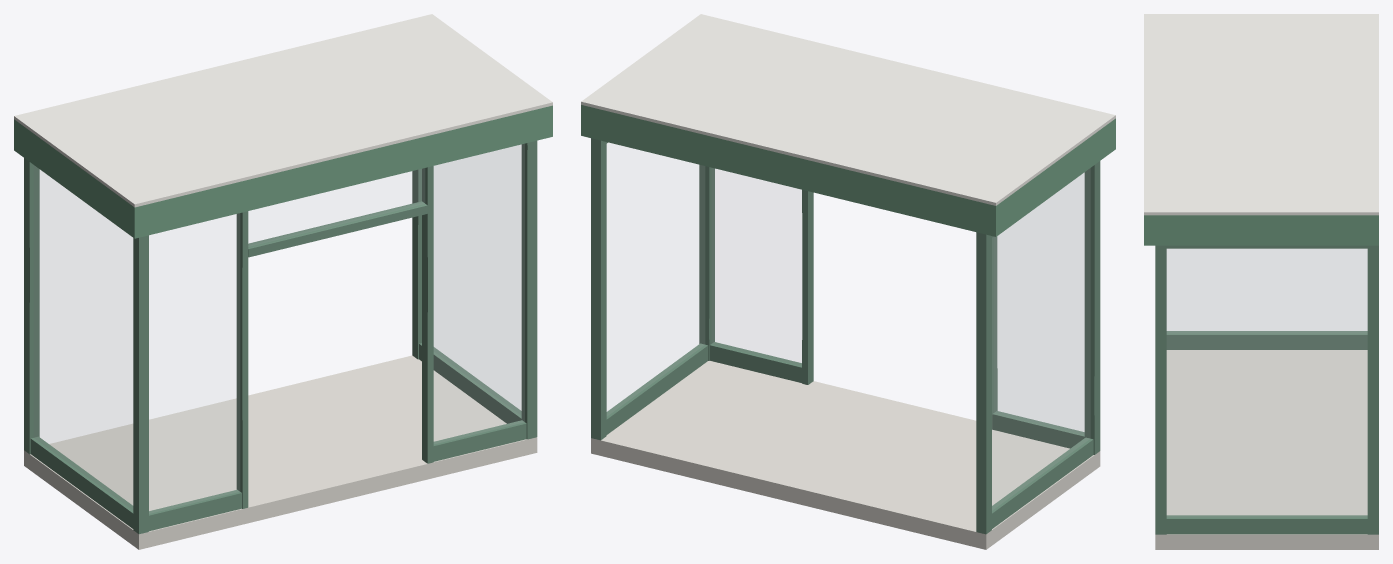
File: vestibule.glb
3 renders of one model, left to right at view 1: azimuth 30°, elevation 25°; view 2: azimuth 150°, elevation 25°; view 3: azimuth 270°, elevation 25°, orthographic. The views are drawn at different scales.
Visible parts, largest first — view 1: vestibule_glass, vestibule_trim, vestibule_floor, vestibule_frame2, vestibule_coping; view 2: vestibule_glass, vestibule_trim, vestibule_floor, vestibule_frame2, vestibule_coping; view 3: vestibule_glass, vestibule_trim, vestibule_floor, vestibule_frame2, vestibule_coping.
Boxes of the visible parts, x1=… form: vestibule_glass: x1=34, y1=144, x2=524, y2=513; vestibule_trim: x1=14, y1=14, x2=552, y2=207; vestibule_floor: x1=24, y1=355, x2=537, y2=549; vestibule_frame2: x1=24, y1=140, x2=537, y2=534; vestibule_coping: x1=14, y1=105, x2=552, y2=238; vestibule_glass: x1=607, y1=143, x2=1089, y2=509; vestibule_trim: x1=581, y1=14, x2=1115, y2=205; vestibule_floor: x1=591, y1=361, x2=1100, y2=549; vestibule_frame2: x1=591, y1=138, x2=1100, y2=534; vestibule_coping: x1=581, y1=105, x2=1115, y2=236; vestibule_glass: x1=1167, y1=249, x2=1367, y2=516; vestibule_trim: x1=1144, y1=14, x2=1378, y2=215; vestibule_floor: x1=1155, y1=350, x2=1378, y2=549; vestibule_frame2: x1=1155, y1=245, x2=1378, y2=534; vestibule_coping: x1=1144, y1=215, x2=1378, y2=245.
Size of the model in its own units: 4.2 by 3.38 by 2.1.
